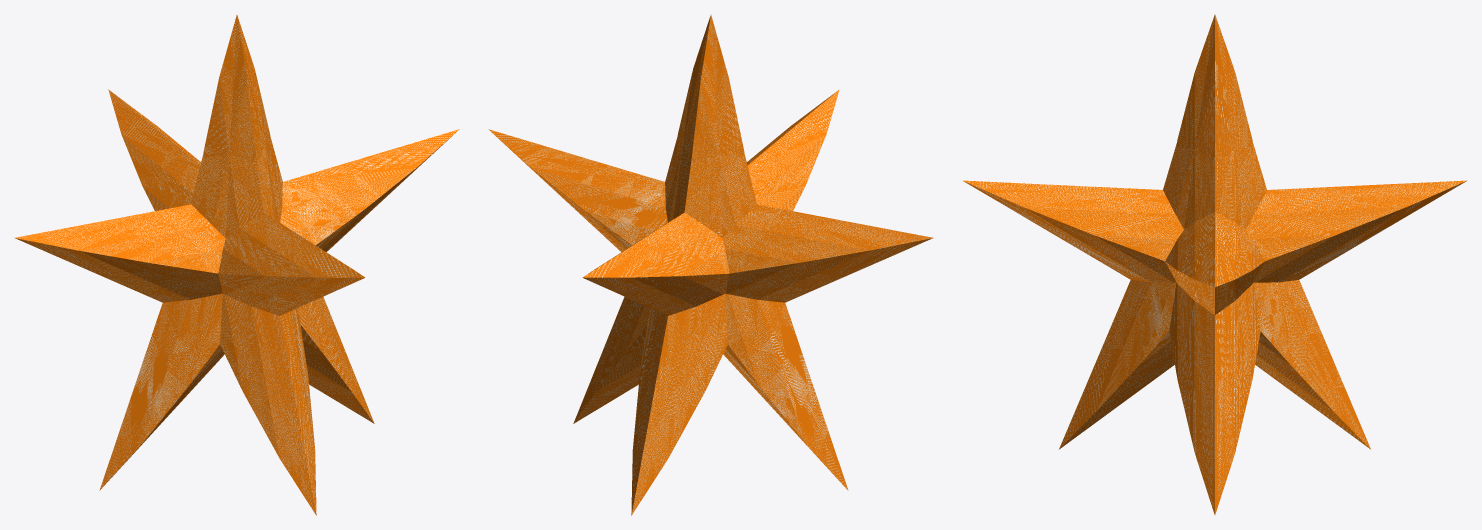
The model's file is star12.dae.
3 renders of one model, left to right at view 1: azimuth 30°, elevation 25°; view 2: azimuth 150°, elevation 25°; view 3: azimuth 270°, elevation 25°, orthographic.
Visible parts, largest first — view 1: Component (×2); view 2: Component (×2); view 3: Component (×2).
Boxes of the visible parts, left/top/right/bottom form: Component (×2): left=14, top=15, right=459, bottom=515; Component (×2): left=488, top=15, right=933, bottom=515; Component (×2): left=963, top=14, right=1466, bottom=514.
Size of the model in its own units: 0.0327 by 0.0327 by 0.0311.
